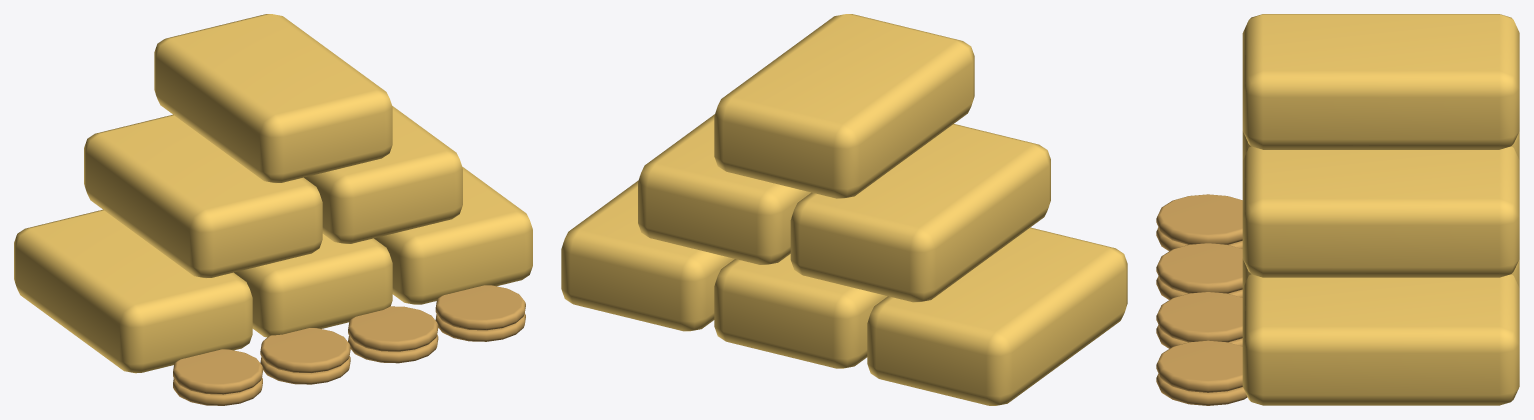
File: gold-bars.glb
3 views of the same model, side by side, from view 1: azimuth 30°, elevation 25°; view 2: azimuth 150°, elevation 25°; view 3: azimuth 270°, elevation 25° (orthographic). The views are drawn at different scales.
Visible parts, largest first — view 1: Bullion bar.005, Bullion bar.003, Bullion bar, Bullion bar.004, Bullion bar.002, Bullion bar.001, Gold coin.006, Gold coin.005, Gold coin.004, Gold coin.007, Gold coin.002, Gold coin (+2 smaller); view 2: Bullion bar.005, Bullion bar.003, Bullion bar, Bullion bar.002, Bullion bar.004, Bullion bar.001; view 3: Bullion bar.005, Bullion bar.002, Bullion bar.004, Gold coin.007, Gold coin.004, Gold coin.005, Gold coin.006, Gold coin.003, Gold coin, Gold coin.001, Gold coin.002.
Part boxes in pixels (<box>): Bullion bar.005: <box>154,14,392,183</box>; Bullion bar.003: <box>84,114,322,278</box>; Bullion bar: <box>14,209,252,373</box>; Bullion bar.004: <box>304,105,462,243</box>; Bullion bar.002: <box>374,167,532,304</box>; Bullion bar.001: <box>234,234,392,337</box>; Gold coin.006: <box>348,306,438,351</box>; Gold coin.005: <box>260,328,350,372</box>; Gold coin.004: <box>173,349,262,394</box>; Gold coin.007: <box>435,285,525,330</box>; Gold coin.002: <box>348,335,438,363</box>; Gold coin: <box>173,377,262,405</box>; Bullion bar.005: <box>714,14,974,198</box>; Bullion bar.003: <box>790,124,1050,302</box>; Bullion bar: <box>867,227,1127,405</box>; Bullion bar.002: <box>561,180,734,331</box>; Bullion bar.004: <box>638,114,810,264</box>; Bullion bar.001: <box>714,254,887,368</box>; Bullion bar.005: <box>1242,14,1519,149</box>; Bullion bar.002: <box>1242,274,1519,405</box>; Bullion bar.004: <box>1242,146,1519,277</box>; Gold coin.007: <box>1156,340,1242,392</box>; Gold coin.004: <box>1156,194,1242,244</box>; Gold coin.005: <box>1156,243,1242,293</box>; Gold coin.006: <box>1156,292,1242,342</box>; Gold coin.003: <box>1156,373,1247,405</box>; Gold coin: <box>1156,227,1242,251</box>; Gold coin.001: <box>1156,276,1242,299</box>; Gold coin.002: <box>1156,325,1242,348</box>.
Size of the model in its own units: 0.94 by 0.5165 by 0.63.
